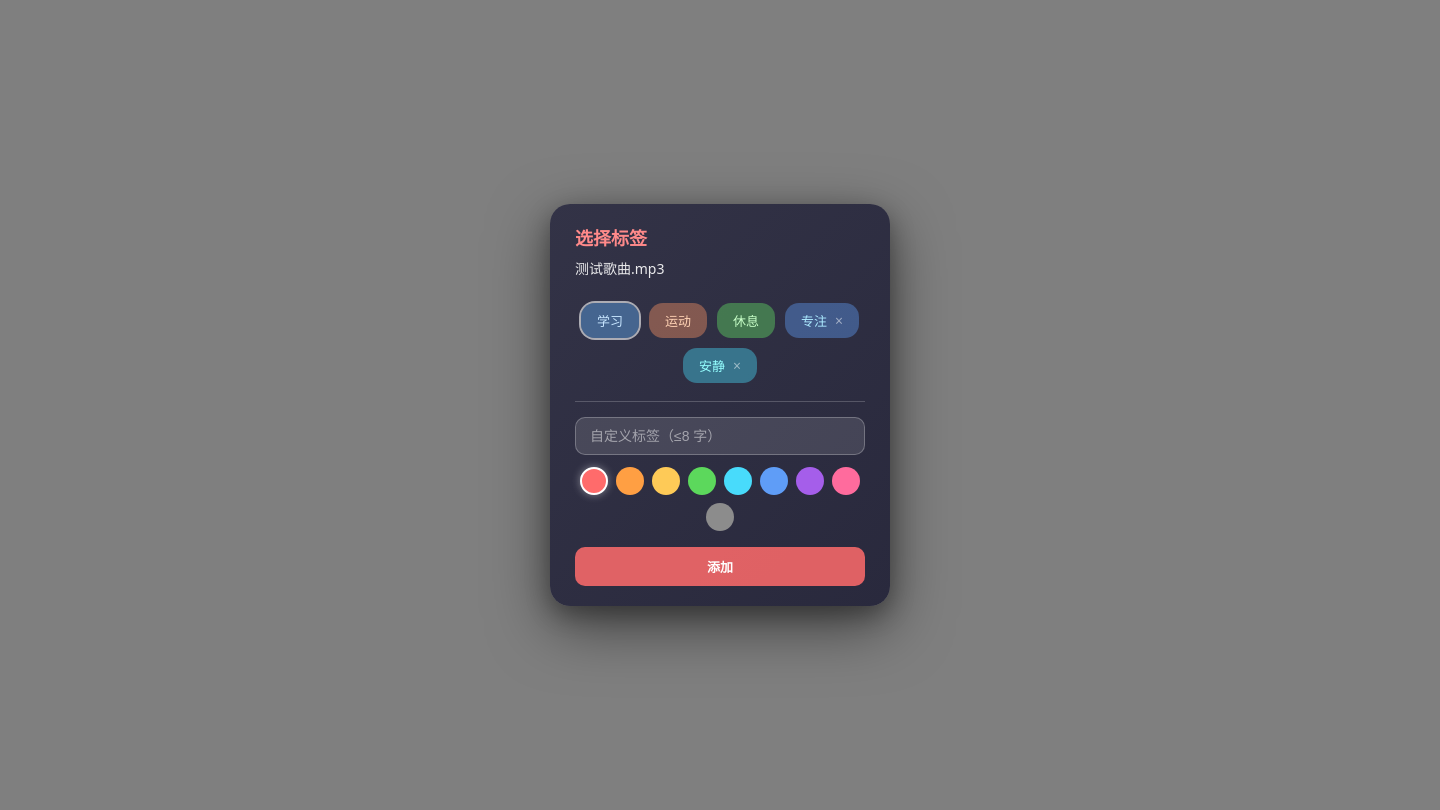
Scenario: MusicTagModal.vue › 自定义标签超 8 字：显示错误且不提交
Type "123456789" into the field with class "tag-custom-input". click: (720, 436)
box: x1=575 y1=417 x2=865 y2=455
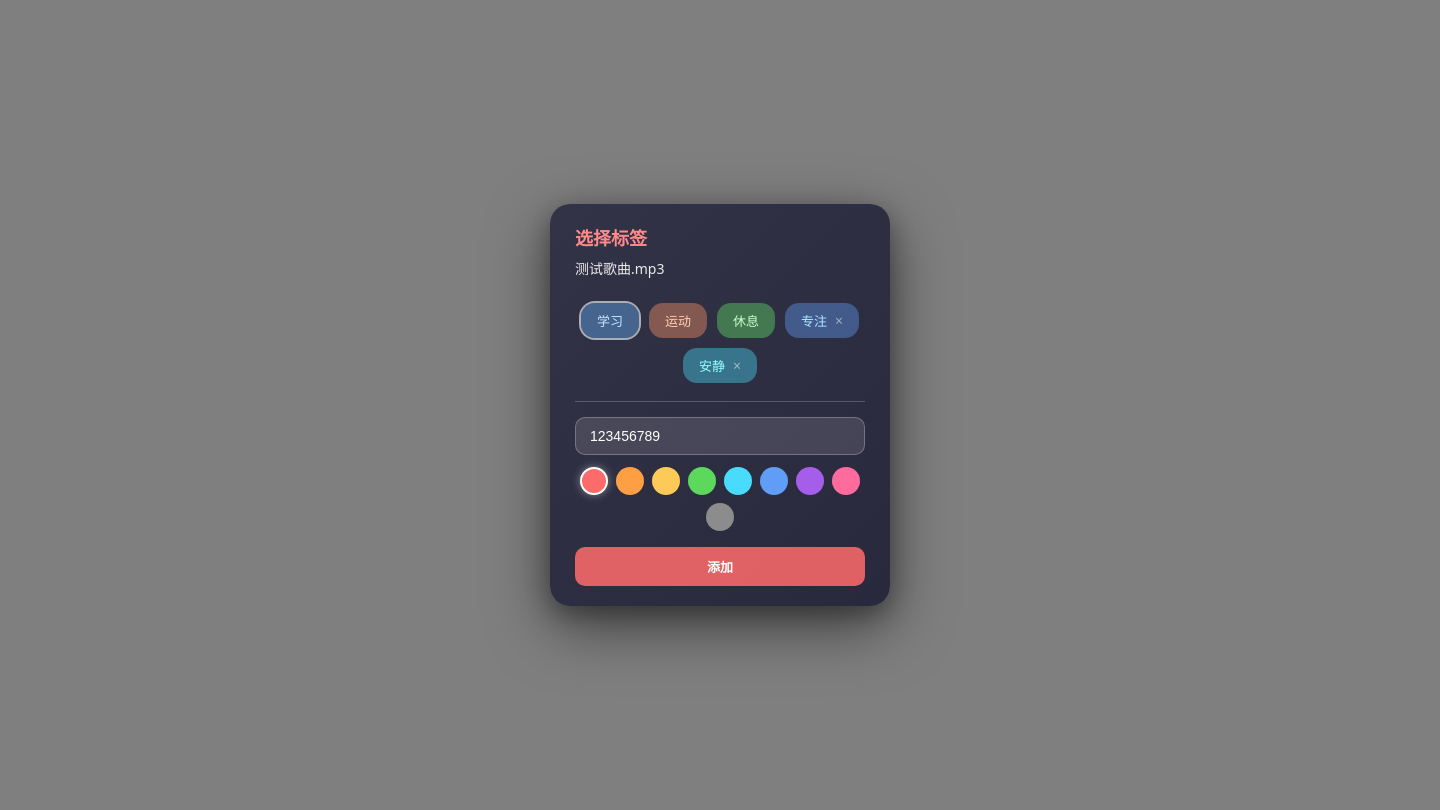
Click the button with class "tag-add-btn". click: (720, 566)
box: x1=575 y1=547 x2=865 y2=586
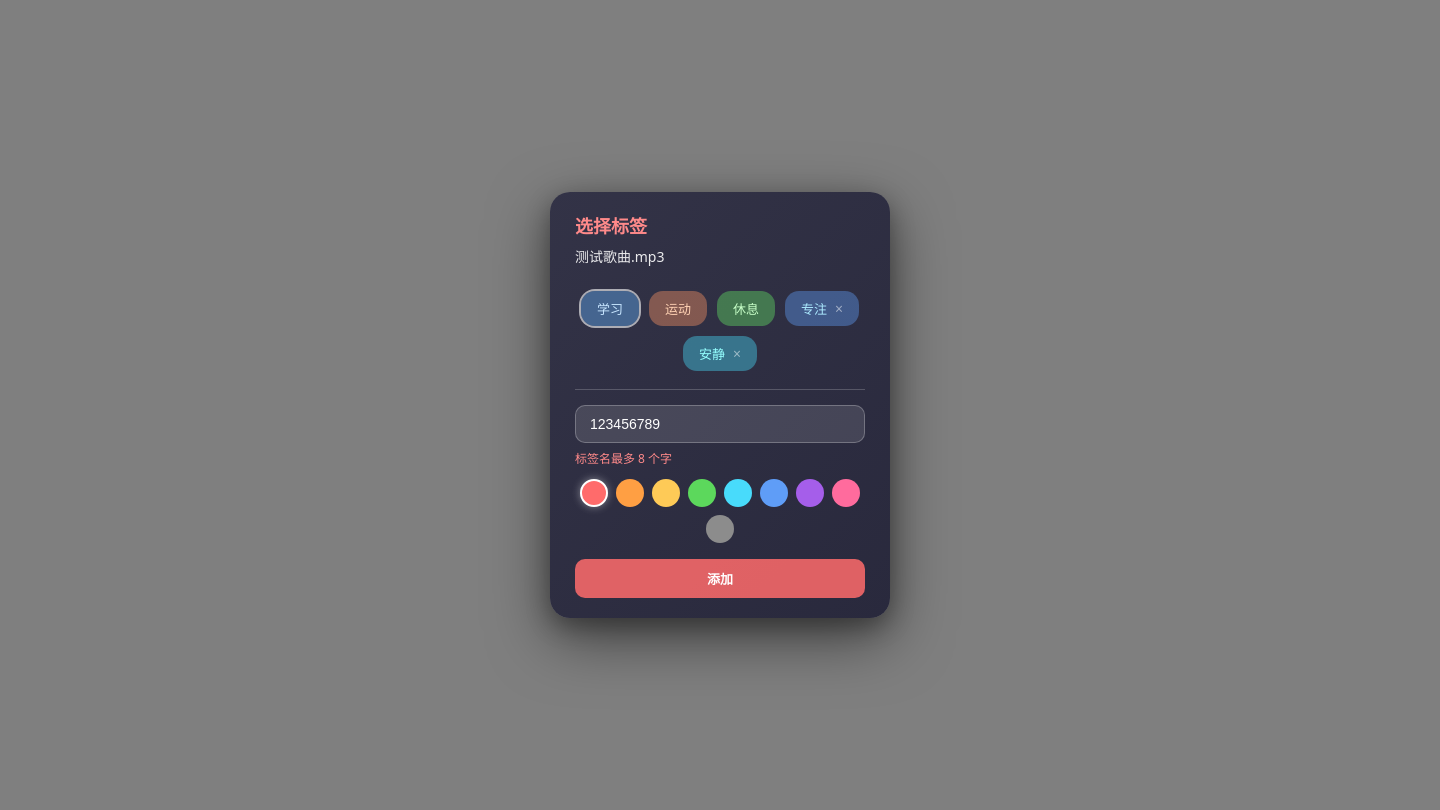
Check: the text with class "tag-custom-error" shows "最多 8 个字", box x1=575 y1=450 x2=672 y2=467
